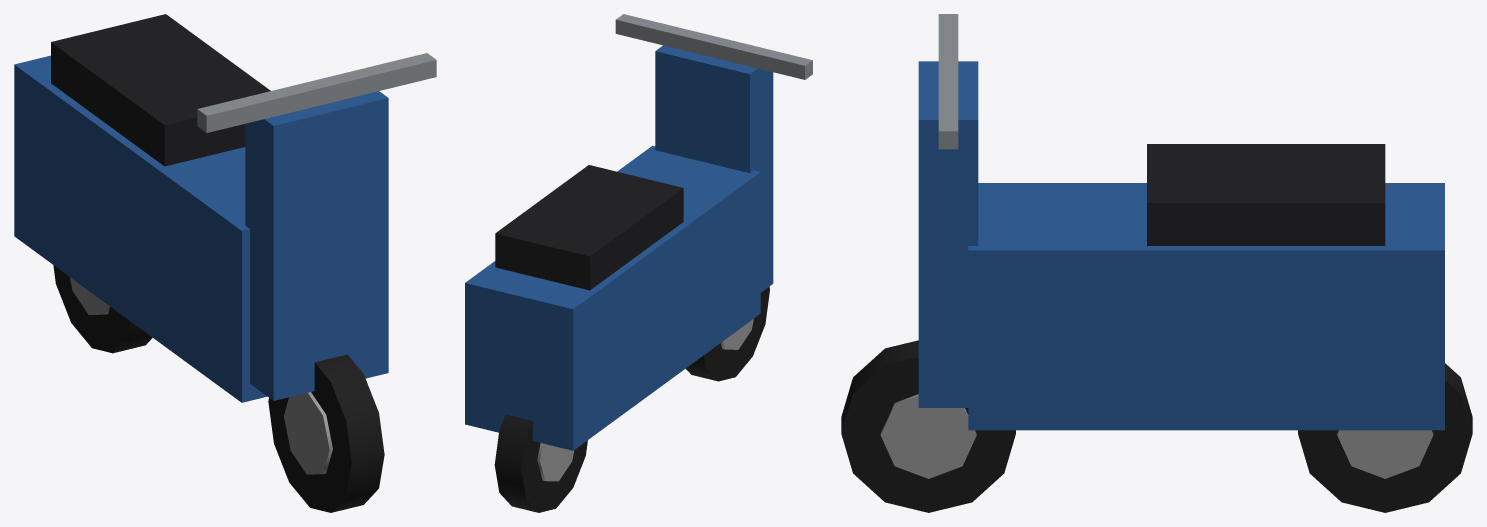
Rendered from scooter.glb.
3 views of the same model, side by side, from view 1: azimuth 30°, elevation 25°; view 2: azimuth 150°, elevation 25°; view 3: azimuth 270°, elevation 25° (orthographic). The views are drawn at different scales.
Parts seen in each view (by area): view 1: scooter, wheel_F, wheel_R; view 2: scooter, wheel_R, wheel_F; view 3: scooter, wheel_F, wheel_R.
Boxes of the visible parts, box(x1,y1,x2,y2) form: scooter: box(14, 14, 436, 402); wheel_F: box(268, 354, 384, 512); wheel_R: box(53, 265, 152, 353); scooter: box(465, 14, 812, 450); wheel_R: box(494, 414, 587, 512); wheel_F: box(686, 286, 769, 381); scooter: box(918, 14, 1444, 430); wheel_F: box(841, 340, 1015, 512); wheel_R: box(1298, 363, 1472, 512).
Bounding box in the file's own units: 0.7 × 1.2 × 1.59.
